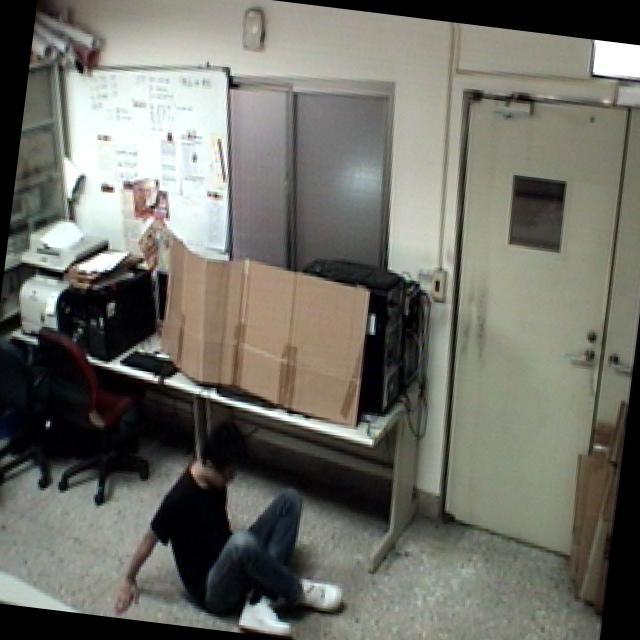sit: (110, 399, 371, 640)
